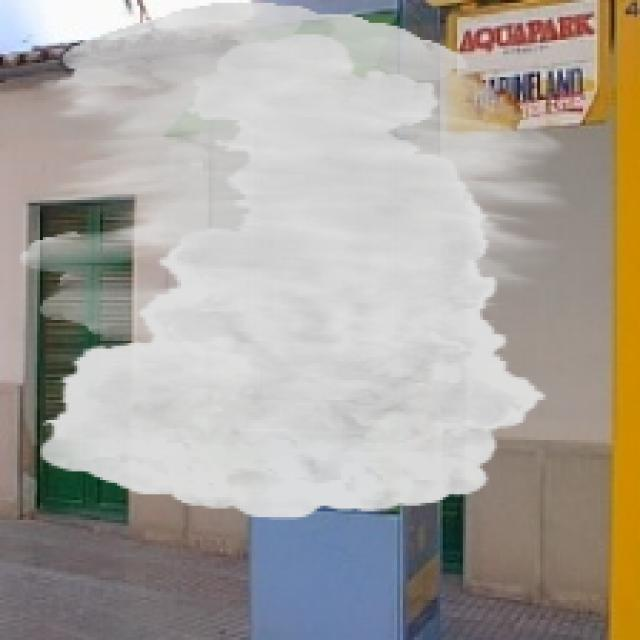Smoke: (20, 3, 569, 520)
